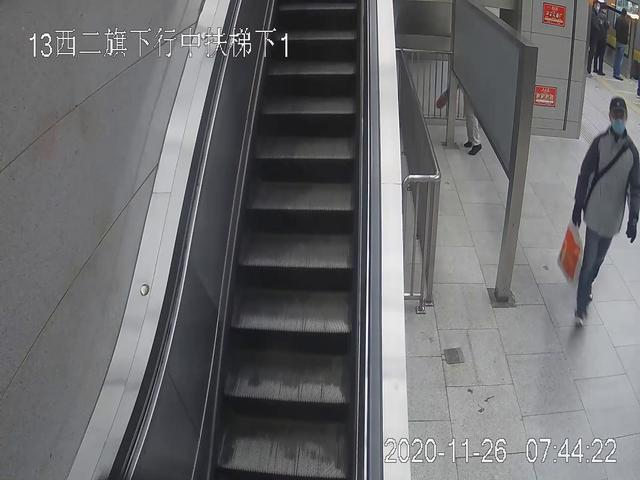person: (563, 96, 640, 330), (611, 7, 637, 82)
